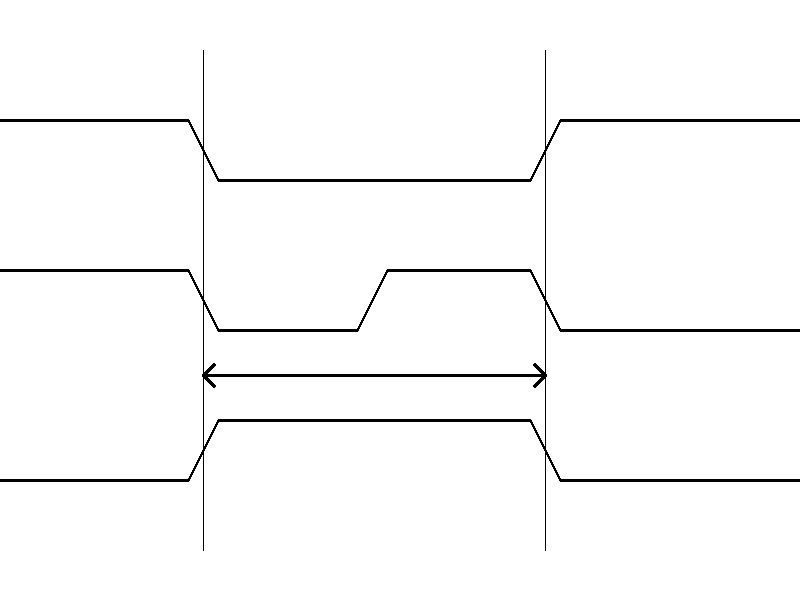double_arrow: (203, 360, 545, 390)
